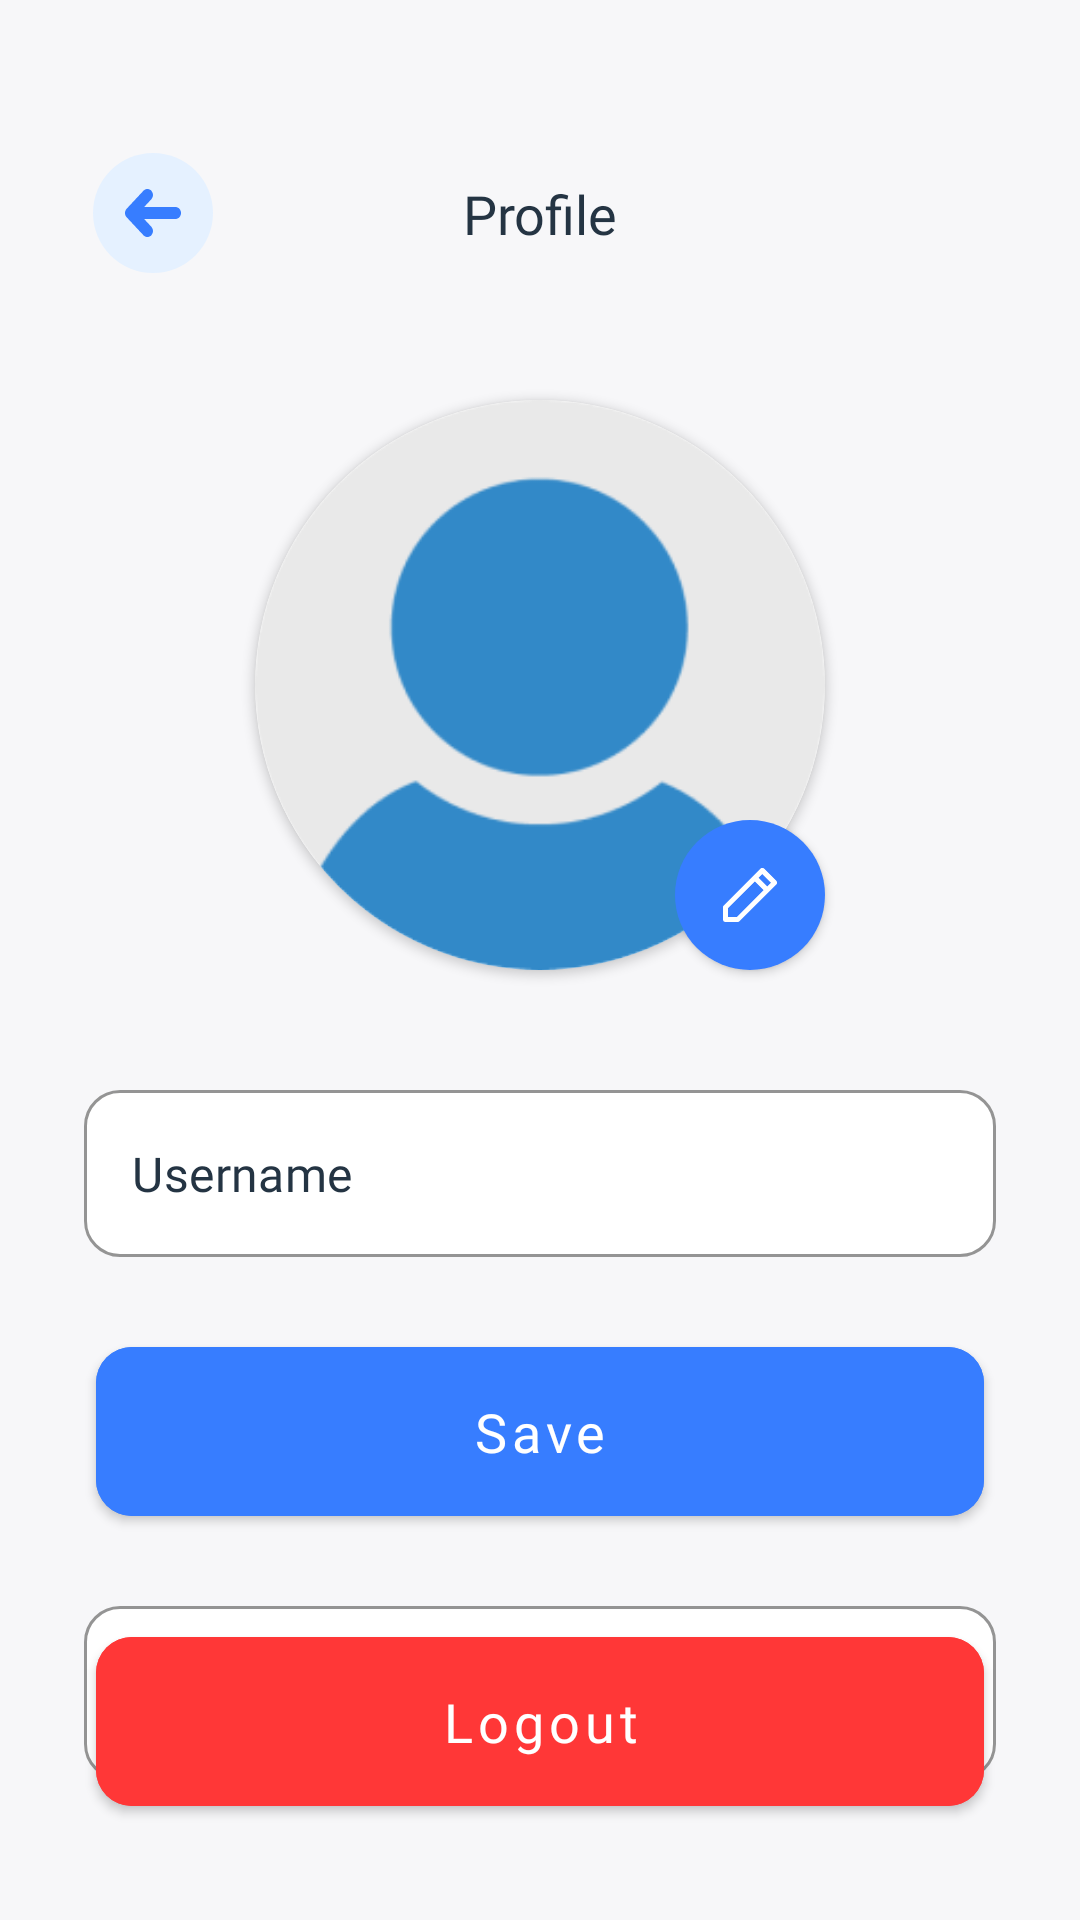

Where icons sit on this 1080*1920 app screen, as (x1, y1, x2, y2):
Back button: (93, 153, 213, 273)
